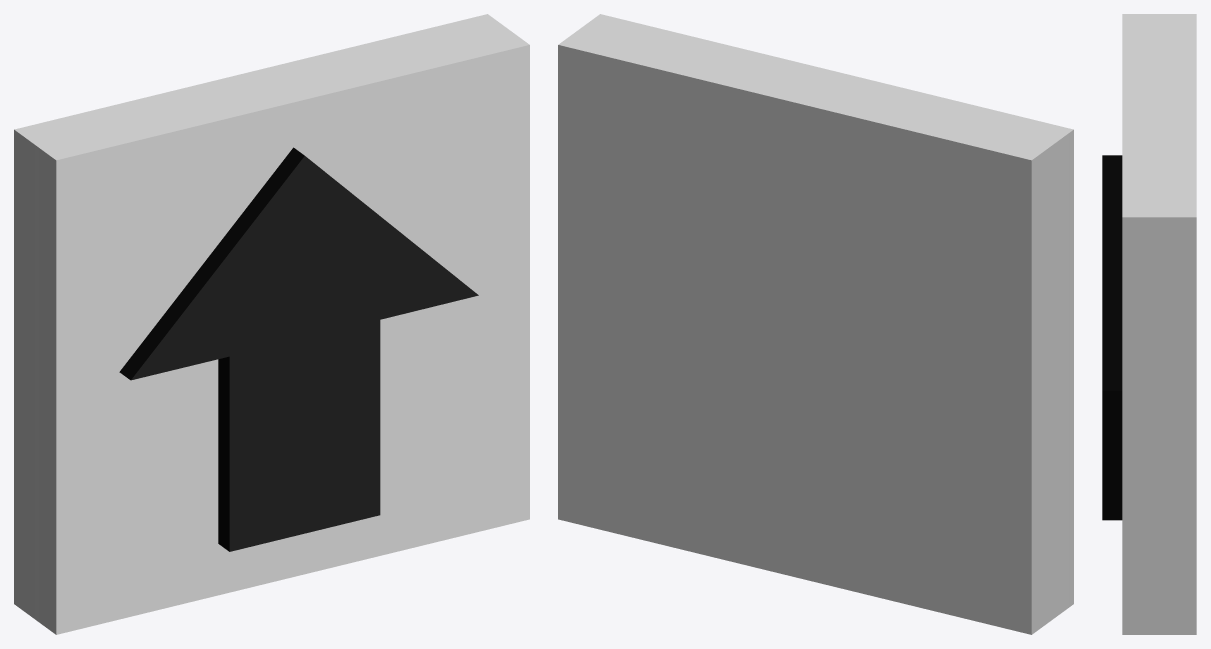
File: cccf2f95-2540-440b-968b-151876c92efb.glb
3 renders of one model, left to right at view 1: azimuth 30°, elevation 25°; view 2: azimuth 150°, elevation 25°; view 3: azimuth 270°, elevation 25°, orthographic. The views are drawn at different scales.
Visible parts, largest first — view 1: arrowButtonSquareWhite; view 2: arrowButtonSquareWhite; view 3: arrowButtonSquareWhite.
Part boxes in pixels (x1=…): arrowButtonSquareWhite: x1=14, y1=14, x2=529, y2=634; arrowButtonSquareWhite: x1=558, y1=14, x2=1073, y2=634; arrowButtonSquareWhite: x1=1102, y1=14, x2=1196, y2=634.
Size of what is drawn, in the model's own units: 0.2009 by 0.1924 by 0.0393.
Materials: 1 (1 with a texture image).
